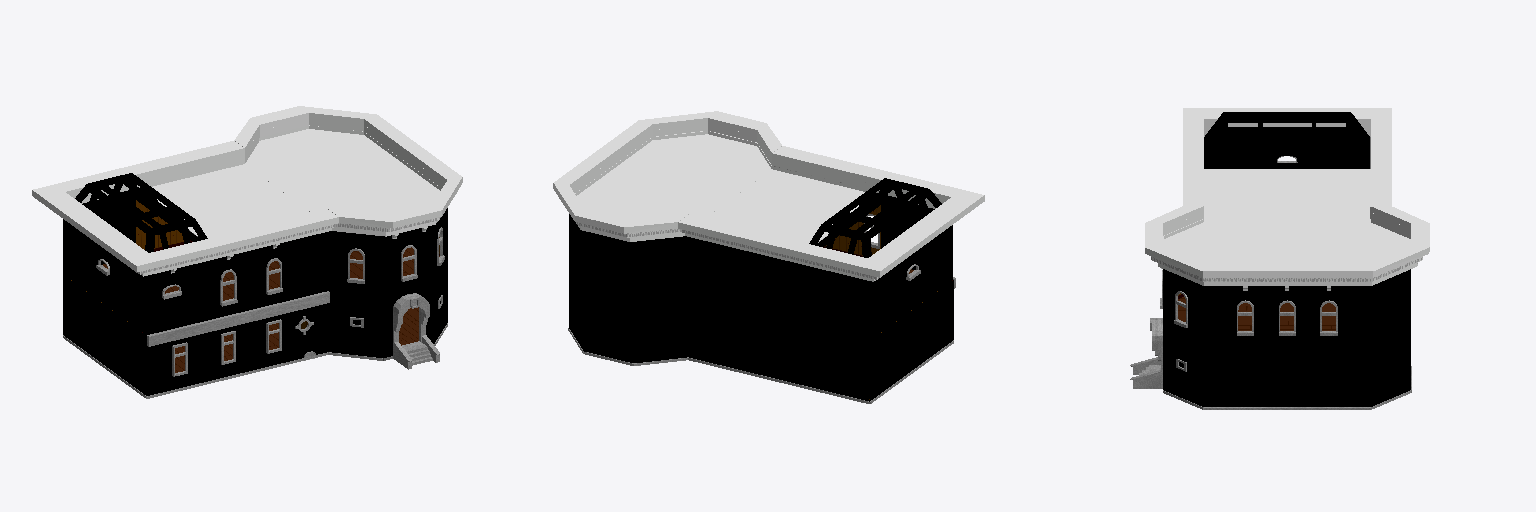
3 views of the same model, side by side, from view 1: azimuth 30°, elevation 25°; view 2: azimuth 150°, elevation 25°; view 3: azimuth 270°, elevation 25° (orthographic).
Parts seen in each view (by area): view 1: pPrism26, pCube117, pCube133, pPrism32, pCube116, pPrism5, pPrism24, pCube385, pCube3, pCube394, pCube273, pCube339 (+9 smaller); view 2: pPrism26, pCube4, pCube117, pPrism5, pPrism32, pCube8, pCube116, pPrism24, pCube3, pCube394, pCube336, pCube273 (+5 smaller); view 3: pPrism5, pPrism32, pPrism26, pCube116, pPrism24, pCube273, pCube117, pCube394, pPrism27, pPrism23.
Boxes of the visible parts, <box> form: pPrism26: <box>245,129,439,214</box>; pCube117: <box>32,141,338,272</box>; pCube133: <box>147,303,327,395</box>; pPrism32: <box>328,208,447,297</box>; pCube116: <box>152,164,310,238</box>; pPrism5: <box>301,262,447,357</box>; pPrism24: <box>234,106,462,228</box>; pCube385: <box>219,232,327,317</box>; pCube3: <box>63,275,146,395</box>; pCube394: <box>64,220,146,334</box>; pCube273: <box>75,173,207,252</box>; pCube339: <box>147,258,218,334</box>; pPrism26: <box>577,134,771,220</box>; pCube4: <box>689,297,869,401</box>; pCube117: <box>678,146,984,277</box>; pPrism5: <box>569,268,688,362</box>; pPrism32: <box>569,214,688,302</box>; pCube8: <box>689,237,797,322</box>; pCube116: <box>705,169,864,243</box>; pPrism24: <box>553,111,781,233</box>; pCube3: <box>869,280,953,400</box>; pCube394: <box>870,225,952,340</box>; pCube336: <box>798,264,869,340</box>; pCube273: <box>809,178,941,257</box>; pPrism5: <box>1163,330,1410,406</box>; pPrism32: <box>1163,269,1410,346</box>; pPrism26: <box>1164,222,1410,263</box>; pCube116: <box>1204,169,1370,221</box>; pPrism24: <box>1145,206,1429,277</box>; pCube273: <box>1204,112,1369,168</box>; pCube117: <box>1183,108,1391,205</box>; pCube394: <box>1216,140,1357,162</box>; pPrism27: <box>1151,212,1422,281</box>; pPrism23: <box>1158,219,1417,285</box>.
Size of the model in its own units: 27.85 by 12.5 by 21.48.
Materials: 11 (6 with a texture image).